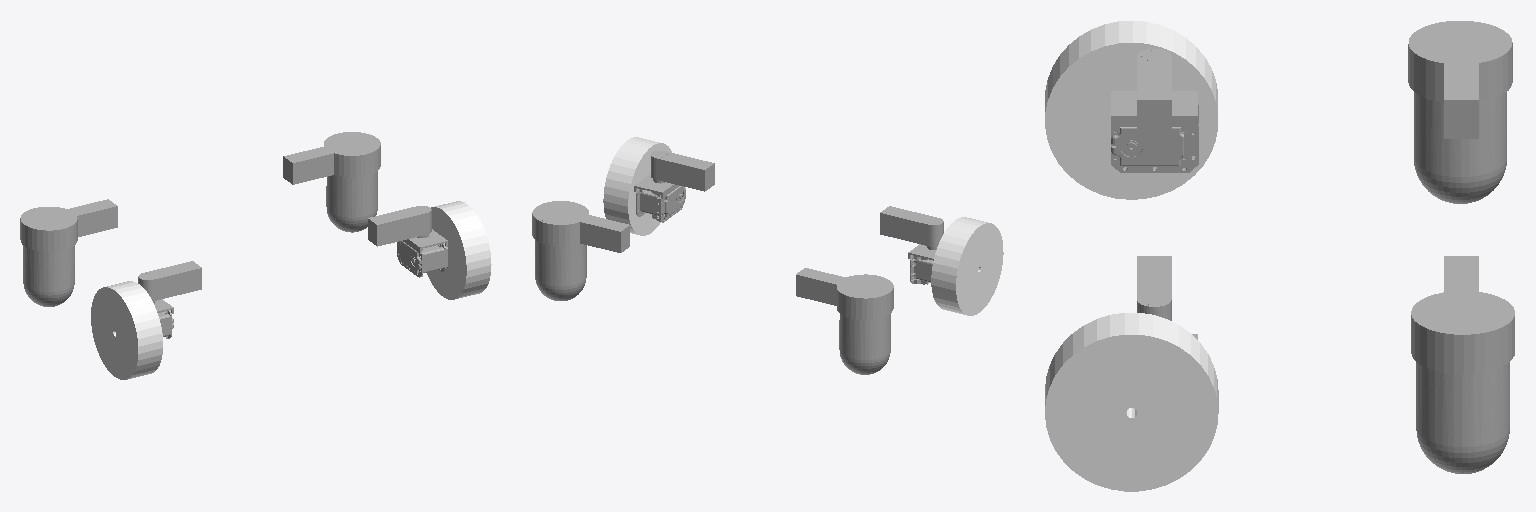
URDF robot description (lidarcam):
<?xml version="1.0" encoding="utf-8"?>
<!-- This URDF was automatically created by SolidWorks to URDF Exporter! Originally created by [author] ([email redacted]) 
     Commit Version: 1.5.1-0-g916b5db  Build Version: 1.5.7152.31018
     For more information, please see http://wiki.ros.org/sw_urdf_exporter -->
<robot
  name="lidarcam">
  <link
    name="base_link">
    <inertial>
      <origin
        xyz="0.108922864318345 0.123403521783607 0.0847241760555164"
        rpy="0 0 0" />
      <mass
        value="3.90118326560913" />
      <inertia
        ixx="0.0186236720310461"
        ixy="1.46573682202297E-06"
        ixz="-3.31789538677575E-07"
        iyy="0.00875282674130426"
        iyz="8.06514530952676E-06"
        izz="0.0179160741187242" />
    </inertial>
    <visual>
      <origin
        xyz="0 0 0"
        rpy="0 0 0" />
      <geometry>
        <mesh
          filename="package://lidarcam/meshes/base_link.STL" />
      </geometry>
      <material
        name="">
        <color
          rgba="0.752941176470588 0.752941176470588 0.752941176470588 1" />
      </material>
    </visual>
    <collision>
      <origin
        xyz="0 0 0"
        rpy="0 0 0" />
      <geometry>
        <mesh
          filename="package://lidarcam/meshes/base_link.STL" />
      </geometry>
    </collision>
  </link>
  <link
    name="LFS">
    <inertial>
      <origin
        xyz="-0.0156936568910528 0.0174176382369257 0.00735669197046052"
        rpy="0 0 0" />
      <mass
        value="0.26437001106024" />
      <inertia
        ixx="6.29151972289897E-05"
        ixy="2.96411876511101E-09"
        ixz="1.6484530205674E-08"
        iyy="6.2207209100296E-05"
        iyz="1.56454773175247E-07"
        izz="3.20746276473134E-05" />
    </inertial>
    <visual>
      <origin
        xyz="0 0 0"
        rpy="0 0 0" />
      <geometry>
        <mesh
          filename="package://lidarcam/meshes/LFS.STL" />
      </geometry>
      <material
        name="">
        <color
          rgba="0.752941176470588 0.752941176470588 0.752941176470588 1" />
      </material>
    </visual>
    <collision>
      <origin
        xyz="0 0 0"
        rpy="0 0 0" />
      <geometry>
        <mesh
          filename="package://lidarcam/meshes/LFS.STL" />
      </geometry>
    </collision>
  </link>
  <joint
    name="LFS"
    type="prismatic">
    <origin
      xyz="0.24112 0.018826 0"
      rpy="0 1.5708 0" />
    <parent
      link="base_link" />
    <child
      link="LFS" />
    <axis
      xyz="1 0 0" />
    <limit
      lower="0"
      upper="0"
      effort="0"
      velocity="0" />
  </joint>
  <link
    name="LFW">
    <inertial>
      <origin
        xyz="0.0150000000000001 1.73472347597681E-18 -3.46944695195361E-18"
        rpy="0 0 0" />
      <mass
        value="0.239316435984071" />
      <inertia
        ixx="0.00030040943490763"
        ixy="-7.49377648649208E-37"
        ixz="-1.53291517986879E-38"
        iyy="0.00016815345015262"
        iyz="-1.54101050386111E-36"
        izz="0.00016815345015262" />
    </inertial>
    <visual>
      <origin
        xyz="0 0 0"
        rpy="0 0 0" />
      <geometry>
        <mesh
          filename="package://lidarcam/meshes/LFW.STL" />
      </geometry>
      <material
        name="">
        <color
          rgba="1 1 1 1" />
      </material>
    </visual>
    <collision>
      <origin
        xyz="0 0 0"
        rpy="0 0 0" />
      <geometry>
        <mesh
          filename="package://lidarcam/meshes/LFW.STL" />
      </geometry>
    </collision>
  </link>
  <joint
    name="LFW"
    type="continuous">
    <origin
      xyz="0.014801 0.0046744 0.050633"
      rpy="1.5708 -1.5708 0" />
    <parent
      link="LFS" />
    <child
      link="LFW" />
    <axis
      xyz="1 0 0" />
    <limit
      effort="3.1"
      velocity="7" />
  </joint>
  <link
    name="RFS">
    <inertial>
      <origin
        xyz="-0.0156849499498769 0.0179312188717306 0.00735669197046058"
        rpy="0 0 0" />
      <mass
        value="0.26437001106024" />
      <inertia
        ixx="6.29151972289897E-05"
        ixy="2.9641187651092E-09"
        ixz="-1.64845302056385E-08"
        iyy="6.2207209100296E-05"
        iyz="-1.56454773175214E-07"
        izz="3.20746276473134E-05" />
    </inertial>
    <visual>
      <origin
        xyz="0 0 0"
        rpy="0 0 0" />
      <geometry>
        <mesh
          filename="package://lidarcam/meshes/RFS.STL" />
      </geometry>
      <material
        name="">
        <color
          rgba="0.752941176470588 0.752941176470588 0.752941176470588 1" />
      </material>
    </visual>
    <collision>
      <origin
        xyz="0 0 0"
        rpy="0 0 0" />
      <geometry>
        <mesh
          filename="package://lidarcam/meshes/RFS.STL" />
      </geometry>
    </collision>
  </link>
  <joint
    name="RFS"
    type="prismatic">
    <origin
      xyz="-0.025117 0.054174 0"
      rpy="3.1416 1.5708 0" />
    <parent
      link="base_link" />
    <child
      link="RFS" />
    <axis
      xyz="1 0 0" />
    <limit
      lower="0"
      upper="0"
      effort="0"
      velocity="0" />
  </joint>
  <link
    name="RFW">
    <inertial>
      <origin
        xyz="-0.015 6.76542155630955E-17 4.85722573273506E-17"
        rpy="0 0 0" />
      <mass
        value="0.239316435984071" />
      <inertia
        ixx="0.000300409434907629"
        ixy="-2.68087886495849E-37"
        ixz="7.53542435711164E-37"
        iyy="0.00016815345015262"
        iyz="-1.6940658945086E-21"
        izz="0.00016815345015262" />
    </inertial>
    <visual>
      <origin
        xyz="0 0 0"
        rpy="0 0 0" />
      <geometry>
        <mesh
          filename="package://lidarcam/meshes/RFW.STL" />
      </geometry>
      <material
        name="">
        <color
          rgba="1 1 1 1" />
      </material>
    </visual>
    <collision>
      <origin
        xyz="0 0 0"
        rpy="0 0 0" />
      <geometry>
        <mesh
          filename="package://lidarcam/meshes/RFW.STL" />
      </geometry>
    </collision>
  </link>
  <joint
    name="RFW"
    type="continuous">
    <origin
      xyz="0.014799 0.030674 0.050633"
      rpy="1.64 1.5708 0" />
    <parent
      link="RFS" />
    <child
      link="RFW" />
    <axis
      xyz="1 0 0" />
    <limit
      effort="3.1"
      velocity="7" />
  </joint>
  <link
    name="LBS">
    <inertial>
      <origin
        xyz="0.00234157571377286 0.0116051947593446 0.0030324510222364"
        rpy="0 0 0" />
      <mass
        value="0.18193357253929" />
      <inertia
        ixx="0.000158415198867683"
        ixy="3.54095934938036E-07"
        ixz="-1.51072226729719E-20"
        iyy="0.000187903911280684"
        iyz="-4.24859260985408E-20"
        izz="0.000106956315729353" />
    </inertial>
    <visual>
      <origin
        xyz="0 0 0"
        rpy="0 0 0" />
      <geometry>
        <mesh
          filename="package://lidarcam/meshes/LBS.STL" />
      </geometry>
      <material
        name="">
        <color
          rgba="0.752941176470588 0.752941176470588 0.752941176470588 1" />
      </material>
    </visual>
    <collision>
      <origin
        xyz="0 0 0"
        rpy="0 0 0" />
      <geometry>
        <mesh
          filename="package://lidarcam/meshes/LBS.STL" />
      </geometry>
    </collision>
  </link>
  <joint
    name="LBS"
    type="prismatic">
    <origin
      xyz="0.28235 0.22575 0"
      rpy="3.1416 0 0" />
    <parent
      link="base_link" />
    <child
      link="LBS" />
    <axis
      xyz="0 0 1" />
    <limit
      lower="0"
      upper="0"
      effort="0"
      velocity="0" />
  </joint>
  <link
    name="RBS">
    <inertial>
      <origin
        xyz="0.00234157571377329 0.0116051947593451 0.0030324510222366"
        rpy="0 0 0" />
      <mass
        value="0.18193357253929" />
      <inertia
        ixx="0.000158415198867683"
        ixy="3.54095934938048E-07"
        ixz="1.49383303884476E-21"
        iyy="0.000187903911280684"
        iyz="-7.51531864264989E-21"
        izz="0.000106956315729353" />
    </inertial>
    <visual>
      <origin
        xyz="0 0 0"
        rpy="0 0 0" />
      <geometry>
        <mesh
          filename="package://lidarcam/meshes/RBS.STL" />
      </geometry>
      <material
        name="">
        <color
          rgba="0.752941176470588 0.752941176470588 0.752941176470588 1" />
      </material>
    </visual>
    <collision>
      <origin
        xyz="0 0 0"
        rpy="0 0 0" />
      <geometry>
        <mesh
          filename="package://lidarcam/meshes/RBS.STL" />
      </geometry>
    </collision>
  </link>
  <joint
    name="RBS"
    type="prismatic">
    <origin
      xyz="-0.06635 0.20125 0"
      rpy="3.1416 0 3.1416" />
    <parent
      link="base_link" />
    <child
      link="RBS" />
    <axis
      xyz="0 0 1" />
    <limit
      lower="0"
      upper="0"
      effort="0"
      velocity="0" />
  </joint>
  <link
    name="fcam">
    <inertial>
      <origin
        xyz="0.000445525090231174 -1.10631679103579E-05 0.00129821973144106"
        rpy="0 0 0" />
      <mass
        value="0.0436119950287128" />
      <inertia
        ixx="2.357070580464E-05"
        ixy="-1.01813691701127E-09"
        ixz="2.17579681215238E-08"
        iyy="4.29479133591134E-06"
        iyz="-8.85791114048226E-10"
        izz="2.21058141232446E-05" />
    </inertial>
    <visual>
      <origin
        xyz="0 0 0"
        rpy="0 0 0" />
      <geometry>
        <mesh
          filename="package://lidarcam/meshes/fcam.STL" />
      </geometry>
      <material
        name="">
        <color
          rgba="0.792156862745098 0.819607843137255 0.933333333333333 1" />
      </material>
    </visual>
    <collision>
      <origin
        xyz="0 0 0"
        rpy="0 0 0" />
      <geometry>
        <mesh
          filename="package://lidarcam/meshes/fcam.STL" />
      </geometry>
    </collision>
  </link>
  <joint
    name="fcam"
    type="fixed">
    <origin
      xyz="0.10801 0.012 0.15299"
      rpy="0 0 -1.5708" />
    <parent
      link="base_link" />
    <child
      link="fcam" />
    <axis
      xyz="0 0 0" />
  </joint>
  <link
    name="bcam">
    <inertial>
      <origin
        xyz="0.000445525343312589 -1.10630004970108E-05 0.00129821972548672"
        rpy="0 0 0" />
      <mass
        value="0.0436119949785285" />
      <inertia
        ixx="2.35707056099599E-05"
        ixy="-1.01834758014122E-09"
        ixz="2.17579332532655E-08"
        iyy="4.29479078276668E-06"
        iyz="-8.85484503922049E-10"
        izz="2.21058144654637E-05" />
    </inertial>
    <visual>
      <origin
        xyz="0 0 0"
        rpy="0 0 0" />
      <geometry>
        <mesh
          filename="package://lidarcam/meshes/bcam.STL" />
      </geometry>
      <material
        name="">
        <color
          rgba="0.792156862745098 0.819607843137255 0.933333333333333 1" />
      </material>
    </visual>
    <collision>
      <origin
        xyz="0 0 0"
        rpy="0 0 0" />
      <geometry>
        <mesh
          filename="package://lidarcam/meshes/bcam.STL" />
      </geometry>
    </collision>
  </link>
  <joint
    name="bcam"
    type="fixed">
    <origin
      xyz="0.10801 0.019081 0.11771"
      rpy="0 0.7854 -1.5708" />
    <parent
      link="base_link" />
    <child
      link="bcam" />
    <axis
      xyz="0 0 0" />
  </joint>
  <link
    name="Lidar">
    <inertial>
      <origin
        xyz="0.0135233599432968 0.000461956324468174 -0.0287648857835382"
        rpy="0 0 0" />
      <mass
        value="0.0730845705100255" />
      <inertia
        ixx="1.95808756865045E-05"
        ixy="-1.03933590325011E-07"
        ixz="-4.28391191299091E-07"
        iyy="2.41250079547575E-05"
        iyz="9.4270820064326E-09"
        izz="4.14184516017992E-05" />
    </inertial>
    <visual>
      <origin
        xyz="0 0 0"
        rpy="0 0 0" />
      <geometry>
        <mesh
          filename="package://lidarcam/meshes/Lidar.STL" />
      </geometry>
      <material
        name="">
        <color
          rgba="0.792156862745098 0.819607843137255 0.933333333333333 1" />
      </material>
    </visual>
    <collision>
      <origin
        xyz="0 0 0"
        rpy="0 0 0" />
      <geometry>
        <mesh
          filename="package://lidarcam/meshes/Lidar.STL" />
      </geometry>
    </collision>
  </link>
  <joint
    name="Lidar"
    type="fixed">
    <origin
      xyz="0.10701 0.19058 0.2245"
      rpy="0 0 -1.5708" />
    <parent
      link="base_link" />
    <child
      link="Lidar" />
    <axis
      xyz="0 0 0" />
  </joint>
</robot>

--- Render facts (derived) ---
3 views of the same robot in one strip: view 1: azimuth 30°, elevation 25°; view 2: azimuth 150°, elevation 25°; view 3: azimuth 270°, elevation 25° (orthographic).
Robot: lidarcam — 10 links, 9 joints (2 continuous, 4 prismatic, 3 fixed); root link base_link; default pose: every joint at zero.
Visible links, largest first — view 1: RBS, LBS, RFW, LFW, LFS, RFS; view 2: RBS, LBS, RFW, LFS, LFW, RFS; view 3: LFW, LBS, RFW, RBS, RFS, LFS.
Boxes of the visible links, left/top/right/bottom form: RBS: left=20, top=199, right=117, bottom=306; LBS: left=283, top=132, right=380, bottom=232; RFW: left=91, top=281, right=162, bottom=379; LFW: left=427, top=201, right=491, bottom=299; LFS: left=368, top=206, right=447, bottom=277; RFS: left=138, top=261, right=201, bottom=338; RBS: left=796, top=268, right=893, bottom=374; LBS: left=532, top=201, right=629, bottom=300; RFW: left=931, top=217, right=1003, bottom=315; LFS: left=634, top=151, right=714, bottom=222; LFW: left=603, top=137, right=671, bottom=235; RFS: left=880, top=206, right=943, bottom=284; LFW: left=1045, top=313, right=1218, bottom=491; LBS: left=1411, top=256, right=1514, bottom=473; RFW: left=1045, top=21, right=1217, bottom=199; RBS: left=1408, top=21, right=1512, bottom=203; RFS: left=1111, top=49, right=1198, bottom=172; LFS: left=1137, top=256, right=1197, bottom=339.
Bounding box of the posed robot: 0.428 × 0.2707 × 0.1 m (x, y, z).
6 mesh visuals loaded from 10 distinct referenced files (6 binary STL); not drawn: 4 (reference not matched to a file when rendering).